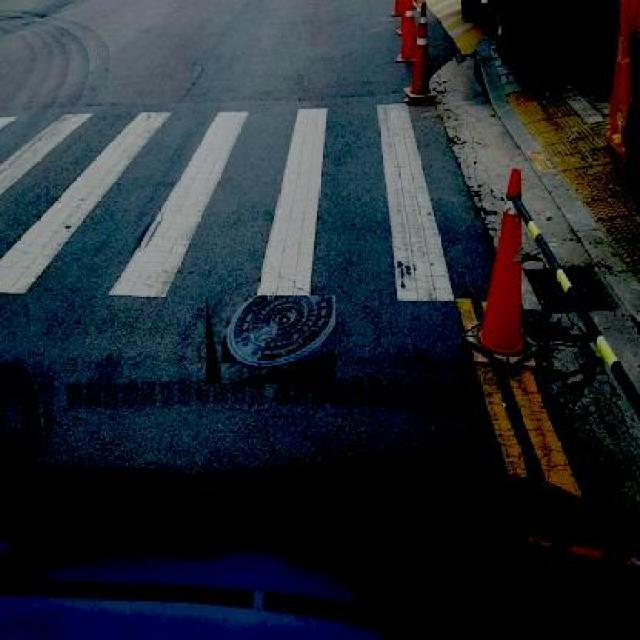Manhole: (207, 296, 336, 384), (526, 260, 630, 318)
